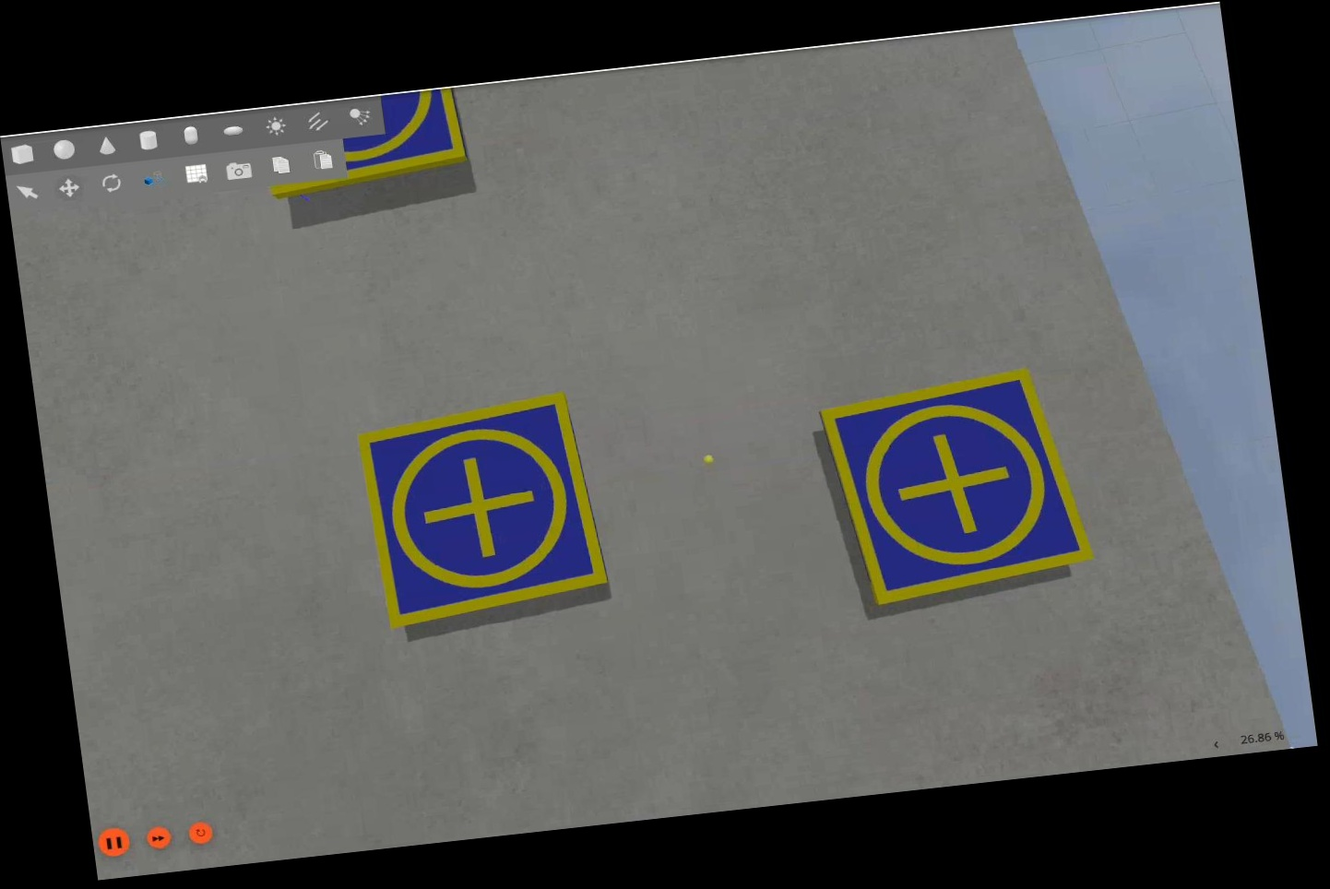small_base: (814, 366, 1099, 612), (350, 388, 614, 634), (339, 87, 478, 182)
